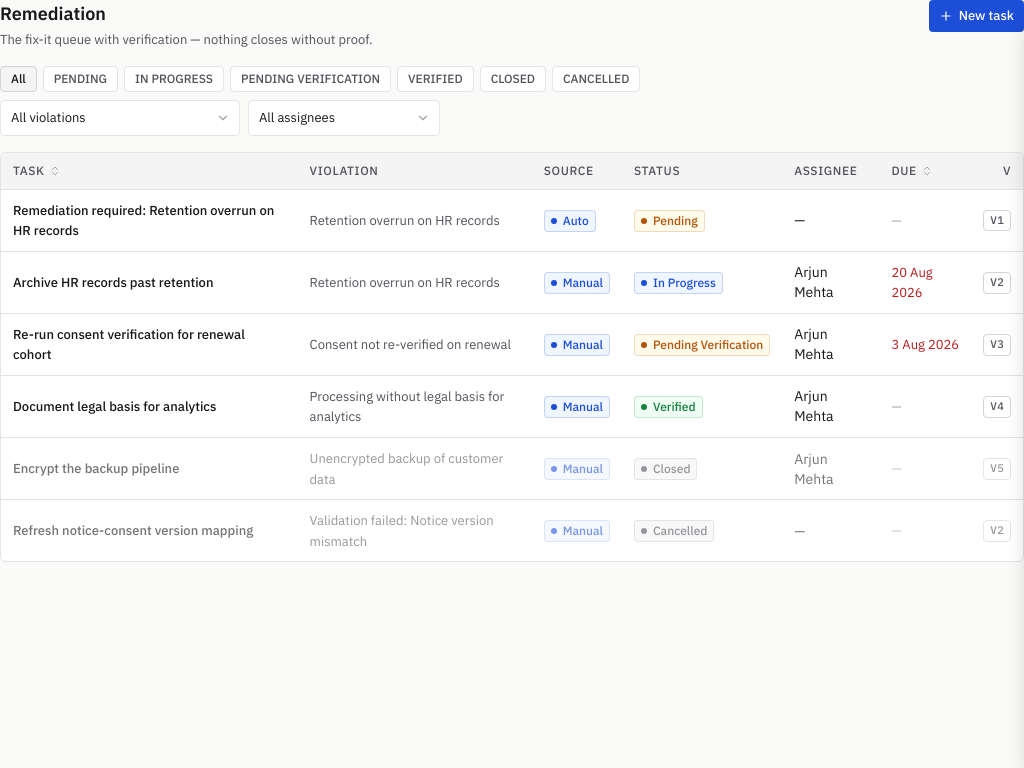
Test: RemediationView (§9.9) › PENDING_VERIFICATION offers verify + rework, never close
The width and height of the screenshot is (1024, 768).
Click the text "Re-run consent verification for renewal cohort" at [129, 334], box x1=13 y1=326 x2=245 y2=363
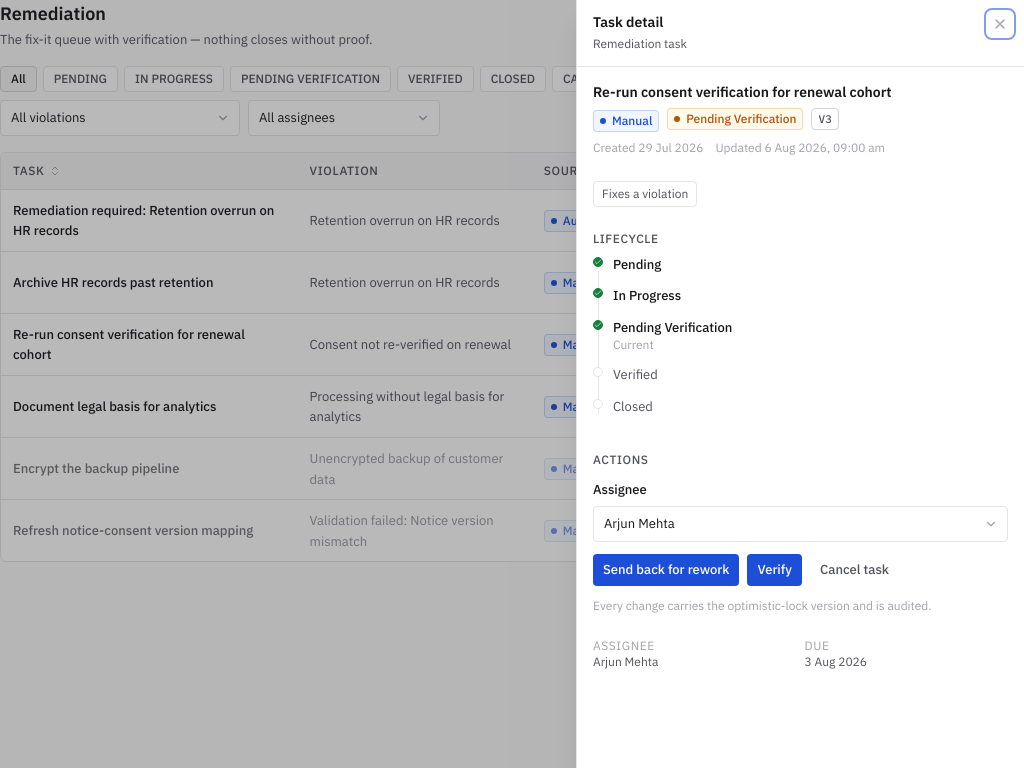
Now the button "Verify" is shown, box x1=747 y1=554 x2=802 y2=586
Now the button "Send back for rework" is shown, box x1=593 y1=554 x2=739 y2=586
